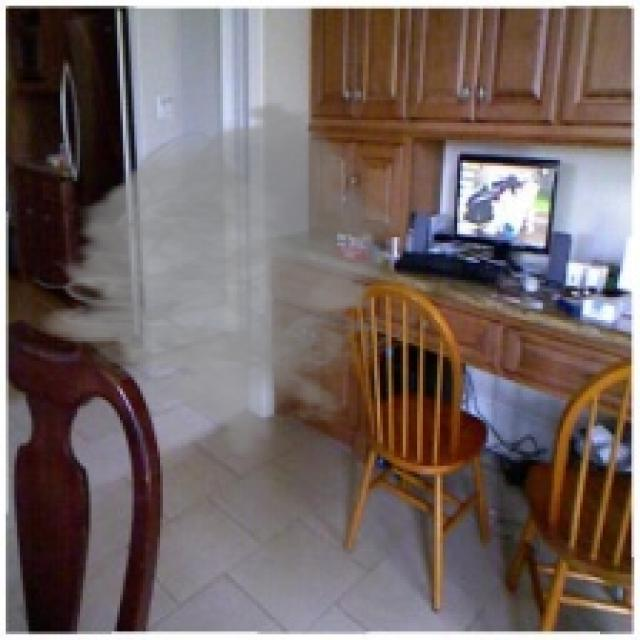Smoke: (26, 100, 437, 460)
